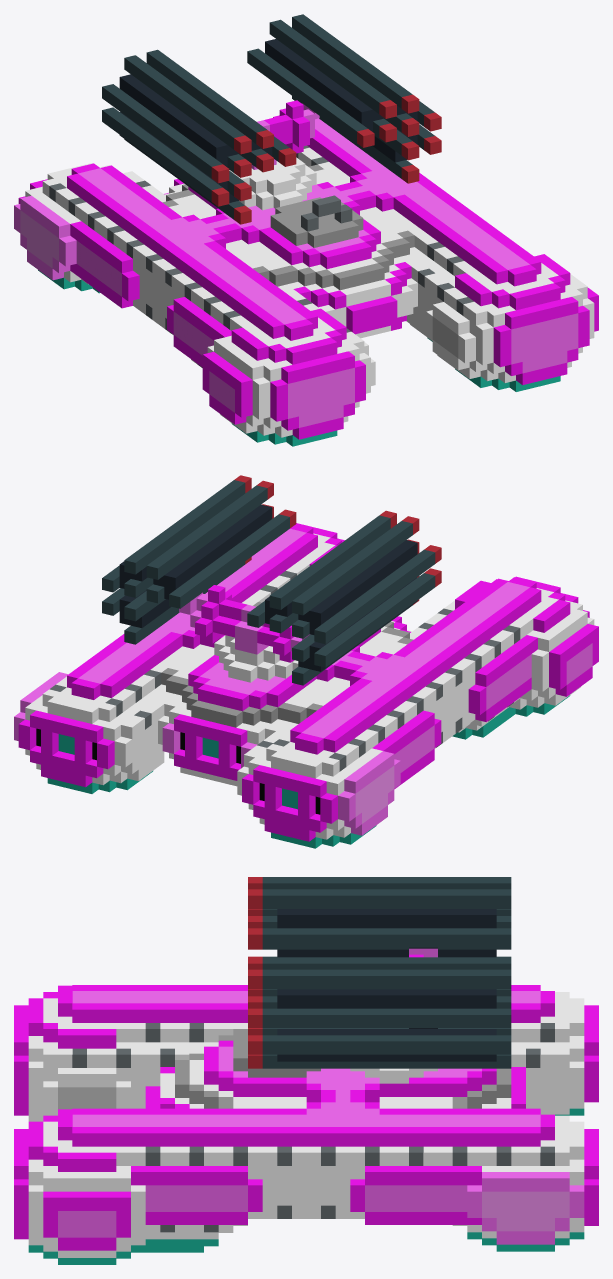
Rendered from rocket_artillery.obj.
3 views of the same model, one above another, from view 1: azimuth 30°, elevation 25°; view 2: azimuth 150°, elevation 25°; view 3: azimuth 270°, elevation 25° (orthographic). The views are drawn at different scales.
Size of the model in its own units: 3.2 by 1.9 by 4.
Materials: 1 (1 with a texture image).
